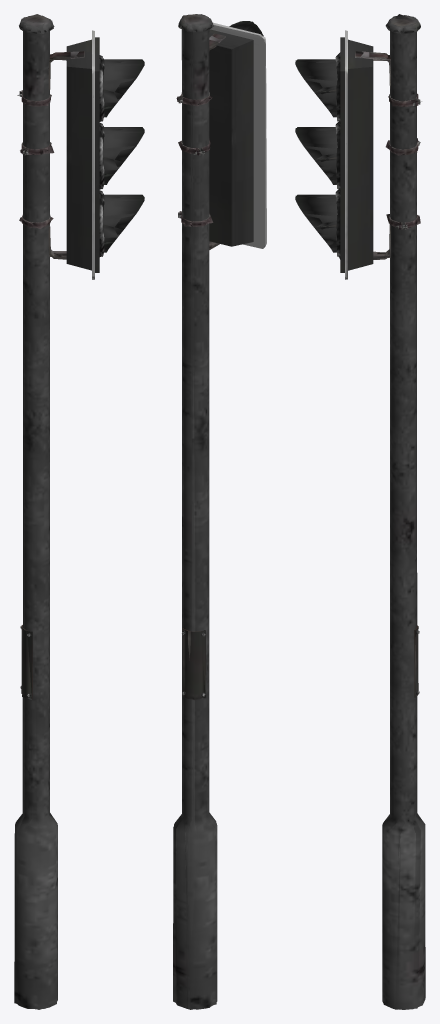
The model's file is sm_traffic_lamp_001.glb.
The picture shows the model from 3 angles, left to right: view 1: azimuth 90°, elevation 25°; view 2: azimuth 150°, elevation 25°; view 3: azimuth 270°, elevation 25°; orthographic projection.
Parts seen in each view (by area): view 1: sm_traffic_lamp_001_00; view 2: sm_traffic_lamp_001_00; view 3: sm_traffic_lamp_001_00.
Boxes of the visible parts, left/top/right/bottom form: sm_traffic_lamp_001_00: left=14, top=14, right=144, bottom=1009; sm_traffic_lamp_001_00: left=173, top=14, right=266, bottom=1009; sm_traffic_lamp_001_00: left=295, top=14, right=425, bottom=1009.
Bounding box in the file's own units: 0.3579 × 4 × 0.482.
Materials: 2 (1 with a texture image).
